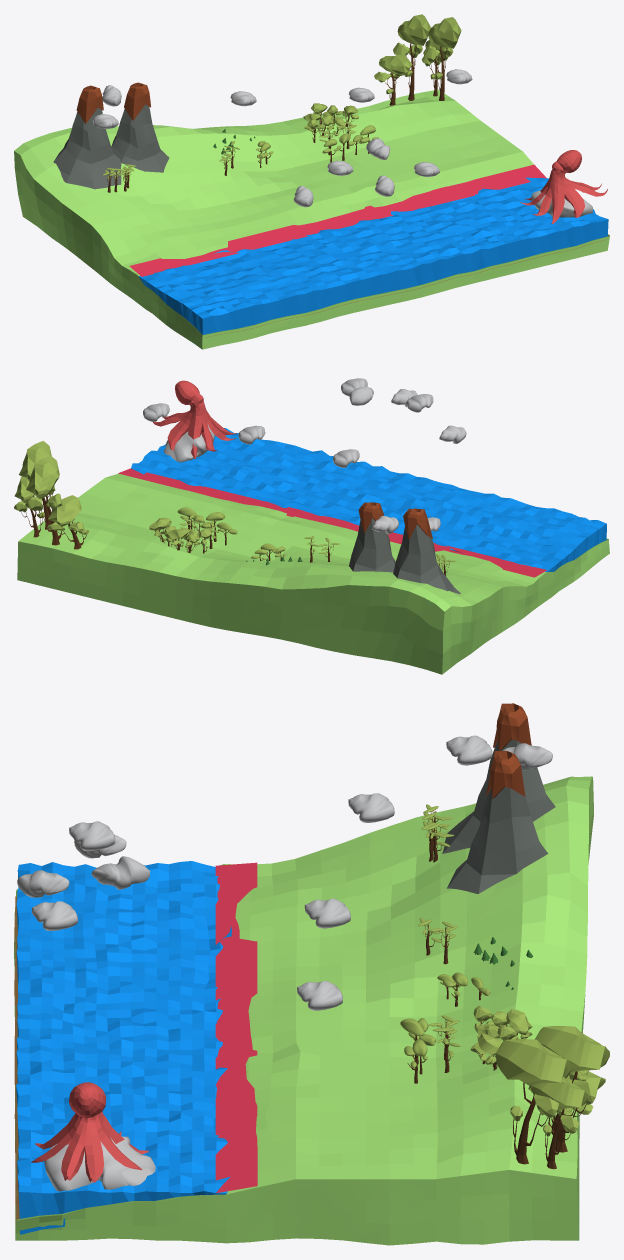
File: land_final_gltf.glb
3 renders of one model, top to bottom at view 1: azimuth 30°, elevation 25°; view 2: azimuth 150°, elevation 25°; view 3: azimuth 270°, elevation 25°, orthographic. The views are drawn at different scales.
Visible parts, largest first — view 1: ground, seaWater, Plane, vulkaan|vulkaanTop_L_cyclus_vulkaan_model_v001.blend|Dupli|, vulkaan|vulkaanTop_L_cyclus_vulkaan_model_v001.blend|Dupli|., Mesh_0, boom4.005|CS_boom4_L_cyclus_boom4_model_v001.blend|Dupli|.00 (×2), boom4.005|CS_boom4_L_cyclus_boom4_model_v001.blend|Dupli|, cloud.001|CS_wolk_L_cyclus_wolk_v001.blend|Dupli|.003; view 2: ground, seaWater, boom4.005|CS_boom4_L_cyclus_boom4_model_v001.blend|Dupli|.00 (×3), Plane, vulkaan|vulkaanTop_L_cyclus_vulkaan_model_v001.blend|Dupli|, Mesh_0, vulkaan|vulkaanTop_L_cyclus_vulkaan_model_v001.blend|Dupli|., cloud.001|CS_wolk_L_cyclus_wolk_v001.blend|Dupli|.003, boom4.005|CS_boom4_L_cyclus_boom4_model_v001.blend|Dupli|; view 3: ground, seaWater, Plane, vulkaan|vulkaanTop_L_cyclus_vulkaan_model_v001.blend|Dupli|., boom4.005|CS_boom4_L_cyclus_boom4_model_v001.blend|Dupli|.00 (×2), Mesh_0, boom4.005|CS_boom4_L_cyclus_boom4_model_v001.blend|Dupli|, vulkaan|vulkaanTop_L_cyclus_vulkaan_model_v001.blend|Dupli|, cloud.001|CS_wolk_L_cyclus_wolk_v001.blend|Dupli|.003, cloud.002|CS_wolk_L_cyclus_wolk_v001.blend|Dupli|, seaGround, cloud|CS_wolk_L_cyclus_wolk_v001.blend|Dupli| (+7 smaller).
Boxes of the visible parts, x1=… form: ground: x1=14, y1=89, x2=609, y2=349; seaWater: x1=138, y1=177, x2=608, y2=334; Plane: x1=129, y1=164, x2=546, y2=276; vulkaan|vulkaanTop_L_cyclus_vulkaan_model_v001.blend|Dupli|: x1=53, y1=85, x2=121, y2=189; vulkaan|vulkaanTop_L_cyclus_vulkaan_model_v001.blend|Dupli|.: x1=111, y1=82, x2=169, y2=172; Mesh_0: x1=520, y1=150, x2=607, y2=223; boom4.005|CS_boom4_L_cyclus_boom4_model_v001.blend|Dupli|.00 (×2): x1=374, y1=14, x2=431, y2=105; boom4.005|CS_boom4_L_cyclus_boom4_model_v001.blend|Dupli|: x1=423, y1=17, x2=461, y2=100; cloud.001|CS_wolk_L_cyclus_wolk_v001.blend|Dupli|.003: x1=531, y1=190, x2=592, y2=217; ground: x1=17, y1=473, x2=609, y2=674; seaWater: x1=131, y1=428, x2=606, y2=571; boom4.005|CS_boom4_L_cyclus_boom4_model_v001.blend|Dupli|.00 (×3): x1=14, y1=455, x2=88, y2=549; Plane: x1=118, y1=468, x2=546, y2=577; vulkaan|vulkaanTop_L_cyclus_vulkaan_model_v001.blend|Dupli|: x1=393, y1=508, x2=460, y2=593; Mesh_0: x1=153, y1=380, x2=236, y2=458; vulkaan|vulkaanTop_L_cyclus_vulkaan_model_v001.blend|Dupli|.: x1=349, y1=502, x2=395, y2=572; cloud.001|CS_wolk_L_cyclus_wolk_v001.blend|Dupli|.003: x1=164, y1=423, x2=214, y2=462; boom4.005|CS_boom4_L_cyclus_boom4_model_v001.blend|Dupli|: x1=19, y1=441, x2=55, y2=529; ground: x1=14, y1=776, x2=593, y2=1245; seaWater: x1=16, y1=861, x2=231, y2=1234; Plane: x1=215, y1=862, x2=257, y2=1193; vulkaan|vulkaanTop_L_cyclus_vulkaan_model_v001.blend|Dupli|.: x1=447, y1=751, x2=548, y2=893; boom4.005|CS_boom4_L_cyclus_boom4_model_v001.blend|Dupli|.00 (×2): x1=532, y1=1026, x2=609, y2=1169; Mesh_0: x1=31, y1=1082, x2=148, y2=1182; boom4.005|CS_boom4_L_cyclus_boom4_model_v001.blend|Dupli|: x1=495, y1=1039, x2=571, y2=1164; vulkaan|vulkaanTop_L_cyclus_vulkaan_model_v001.blend|Dupli|: x1=442, y1=703, x2=555, y2=853; cloud.001|CS_wolk_L_cyclus_wolk_v001.blend|Dupli|.003: x1=44, y1=1136, x2=155, y2=1191; cloud.002|CS_wolk_L_cyclus_wolk_v001.blend|Dupli|: x1=91, y1=856, x2=150, y2=889; seaGround: x1=14, y1=896, x2=19, y2=1221; cloud|CS_wolk_L_cyclus_wolk_v001.blend|Dupli|: x1=17, y1=870, x2=69, y2=897.
Bounding box in the file's own units: 264 × 83.29 × 187.
